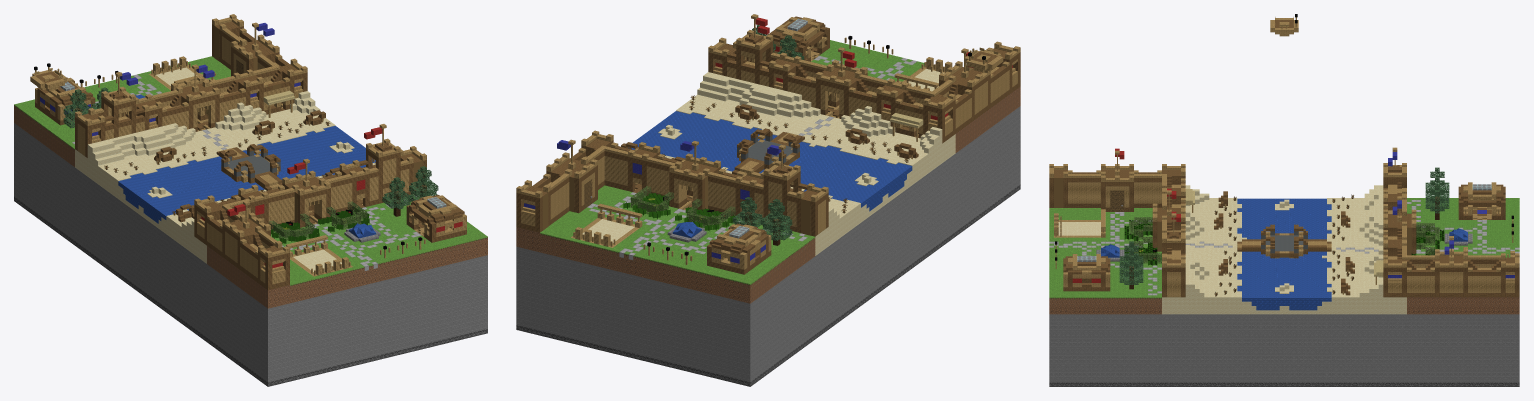
The model's file is minecraft.obj.
3 renders of one model, left to right at view 1: azimuth 30°, elevation 25°; view 2: azimuth 150°, elevation 25°; view 3: azimuth 270°, elevation 25°, orthographic. The views are drawn at different scales.
Bounding box in the file's own units: 74 × 53.52 × 100.
